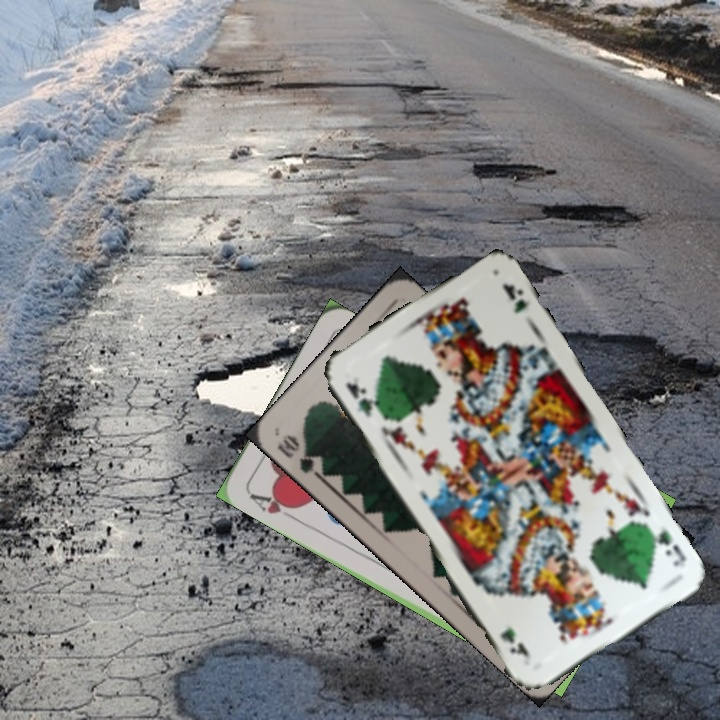G10: (273, 430, 327, 480)
GK: (644, 524, 689, 571), (342, 377, 384, 420)
HA: (245, 488, 302, 523)
